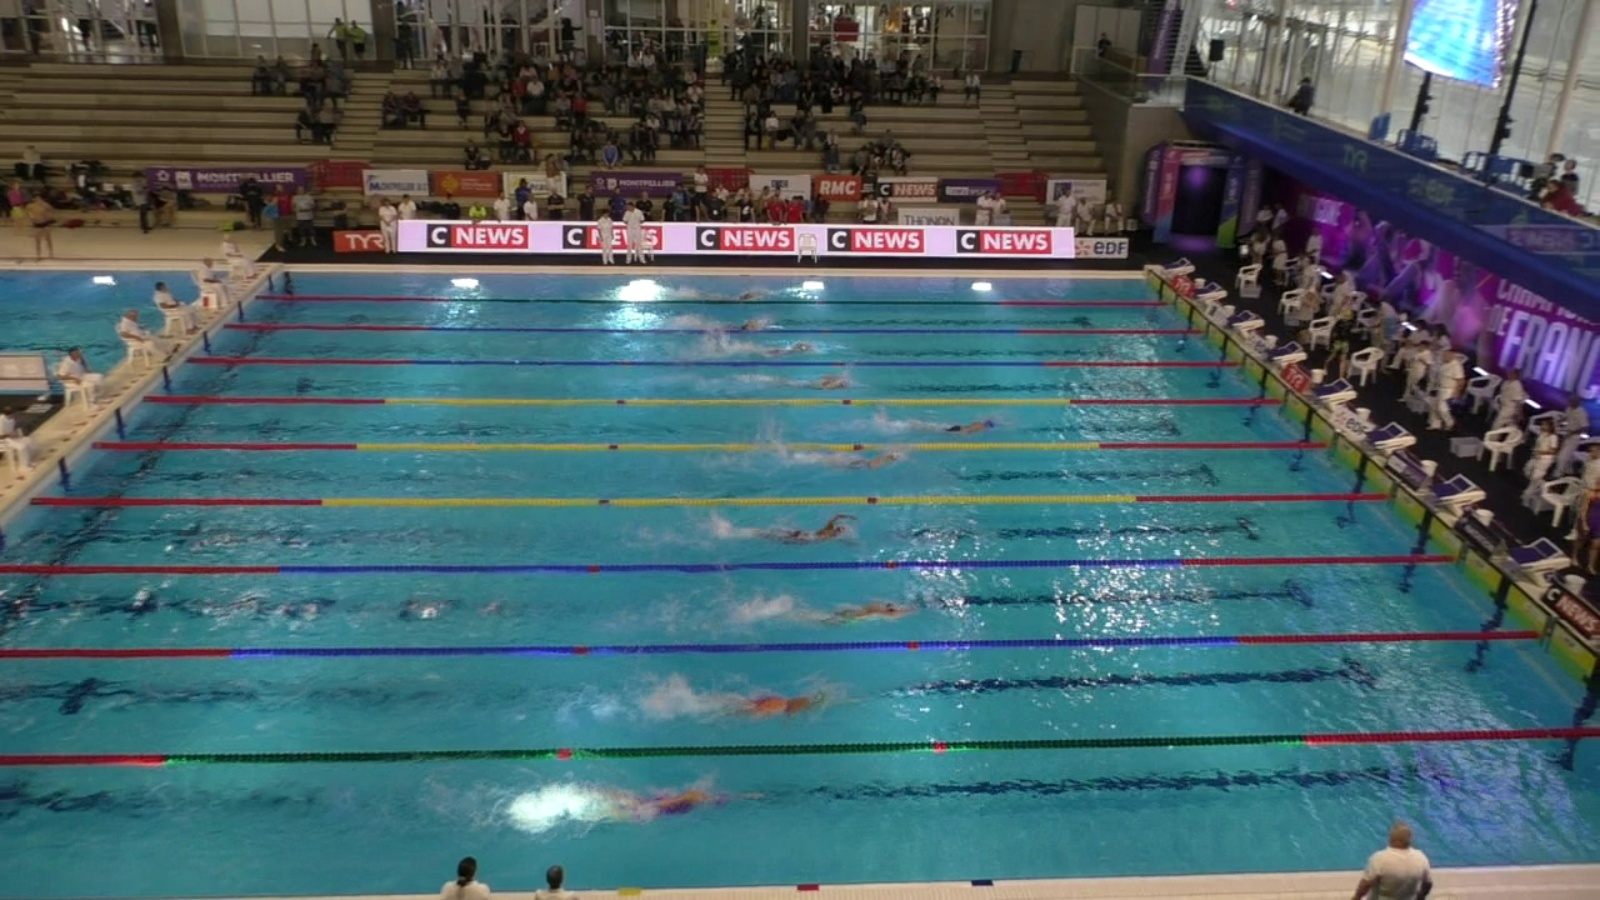swimmerwdd: (555, 777, 742, 820), (647, 680, 831, 716), (774, 592, 922, 627), (743, 516, 866, 548), (710, 338, 831, 365), (784, 449, 915, 471), (886, 416, 1010, 440), (758, 376, 865, 397), (673, 319, 778, 335), (687, 287, 777, 305)
